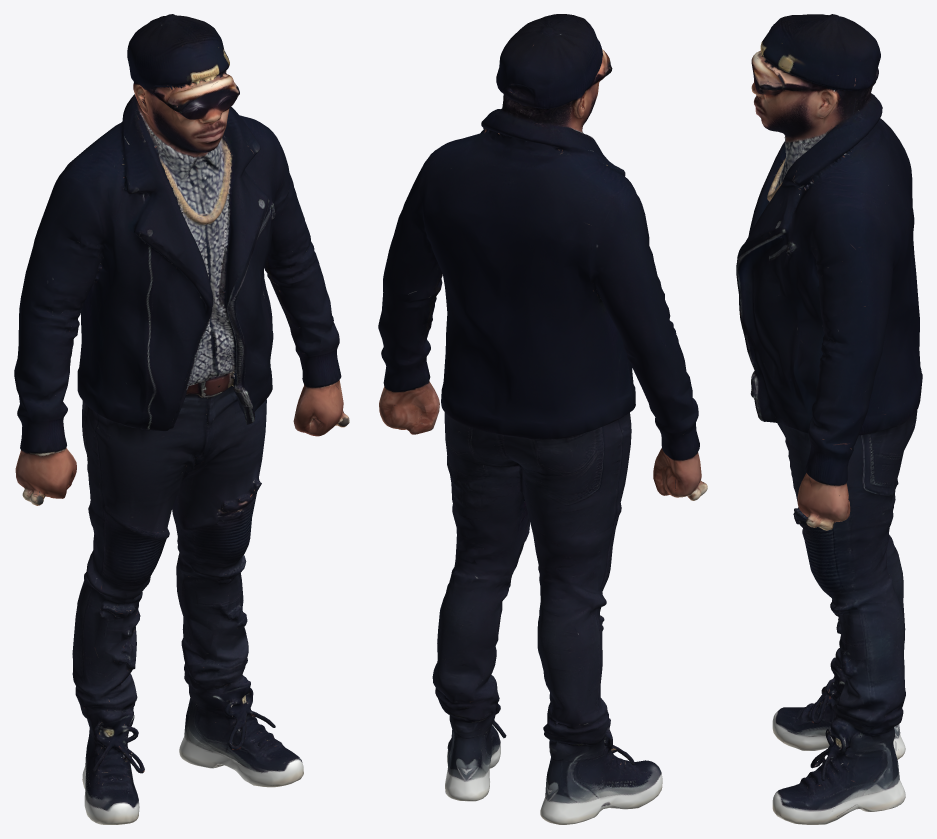
The model's file is Meshy_AI_Urban_Swagger_0515190027_texture.fbx.
3 renders of one model, left to right at view 1: azimuth 30°, elevation 25°; view 2: azimuth 150°, elevation 25°; view 3: azimuth 270°, elevation 25°, orthographic.
Visible parts, largest first — view 1: Mesh1.0; view 2: Mesh1.0; view 3: Mesh1.0.
Part boxes in pixels (left/top/right/bottom): Mesh1.0: left=14, top=14, right=349, bottom=824; Mesh1.0: left=378, top=14, right=707, bottom=824; Mesh1.0: left=736, top=14, right=922, bottom=824.
Bounding box in the file's own units: 83.34 × 191 × 42.44.
Materials: 1 (1 with a texture image).
